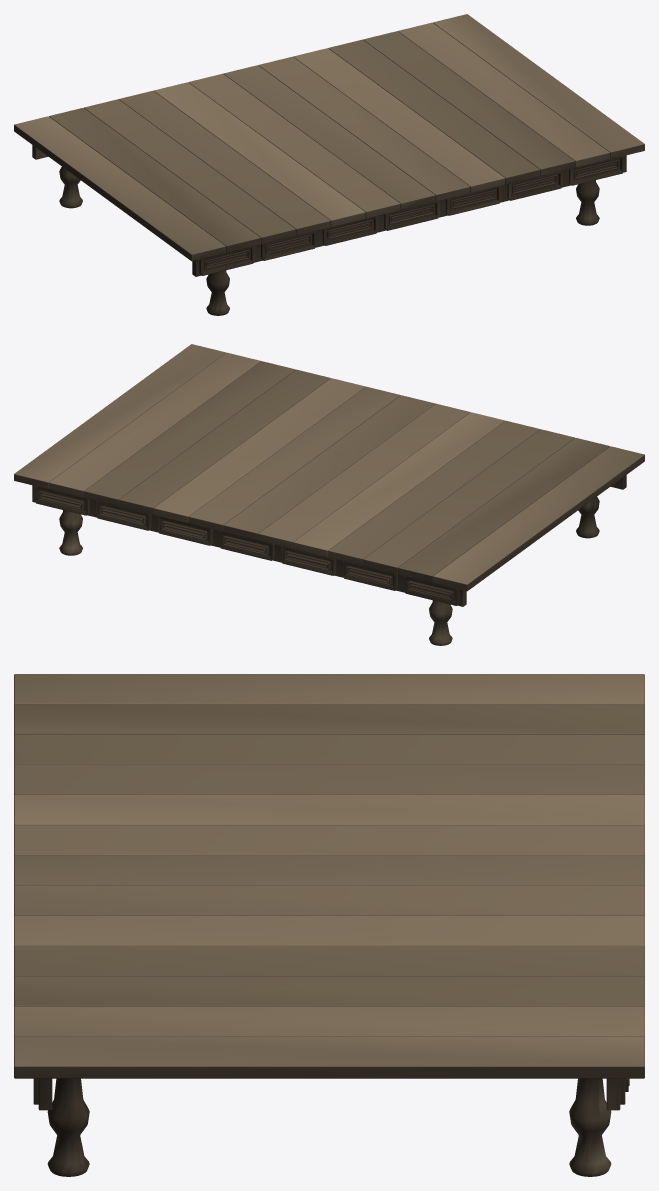
File: StudyWood.fbx
3 renders of one model, top to bottom at view 1: azimuth 30°, elevation 25°; view 2: azimuth 150°, elevation 25°; view 3: azimuth 270°, elevation 25°, orthographic. The views are drawn at different scales.
Visible parts, largest first — view 1: StudyWood; view 2: StudyWood; view 3: StudyWood.
Boxes of the visible parts, bbox=[...] form: StudyWood: bbox=[14, 14, 644, 315]; StudyWood: bbox=[14, 344, 644, 645]; StudyWood: bbox=[14, 674, 644, 1176].
Bounding box in the file's own units: 2209 × 365 × 1500.
